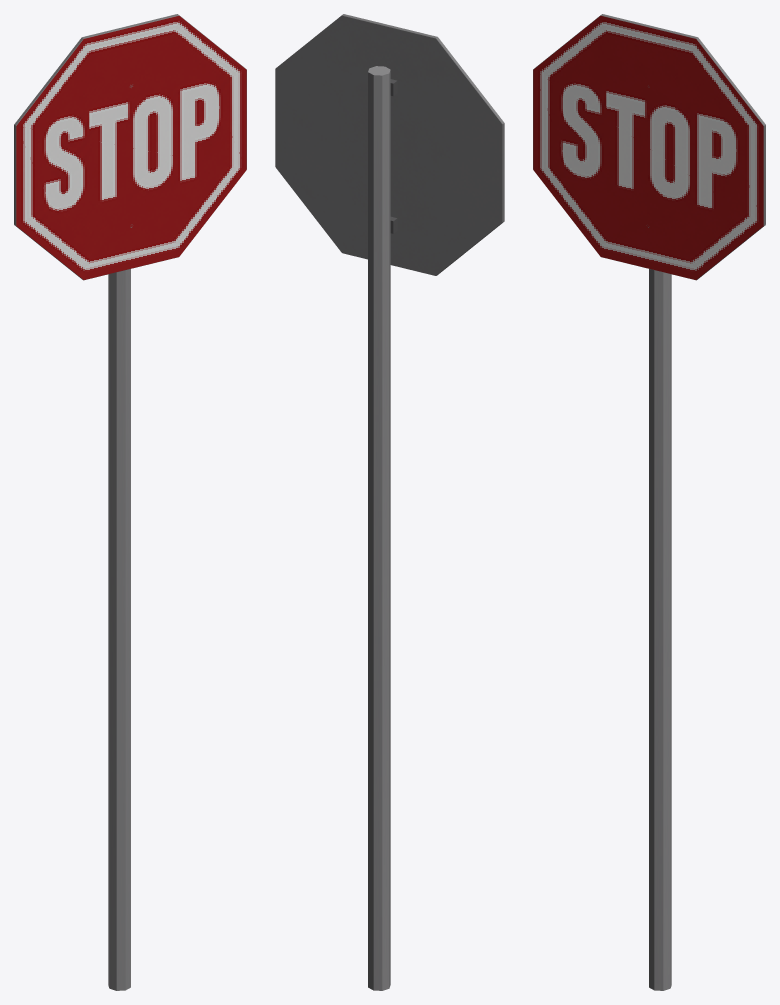
Rendered from stop_sign.glb.
3 views of the same model, side by side, from view 1: azimuth 30°, elevation 25°; view 2: azimuth 150°, elevation 25°; view 3: azimuth 330°, elevation 25° (orthographic).
Parts seen in each view (by area): view 1: core_stop_sign; view 2: core_stop_sign; view 3: core_stop_sign.
Part boxes in pixels (bbox=[...]): core_stop_sign: bbox=[14, 14, 246, 990]; core_stop_sign: bbox=[275, 14, 504, 990]; core_stop_sign: bbox=[533, 14, 765, 990].
Size of the model in its own units: 0.45 by 1.8 by 0.06.
1 material, 1 textured.
